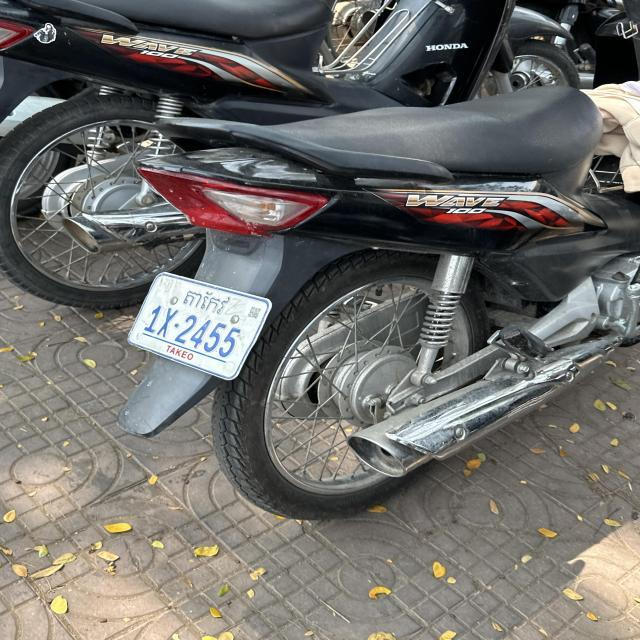Takeo: (182, 289, 231, 314)
